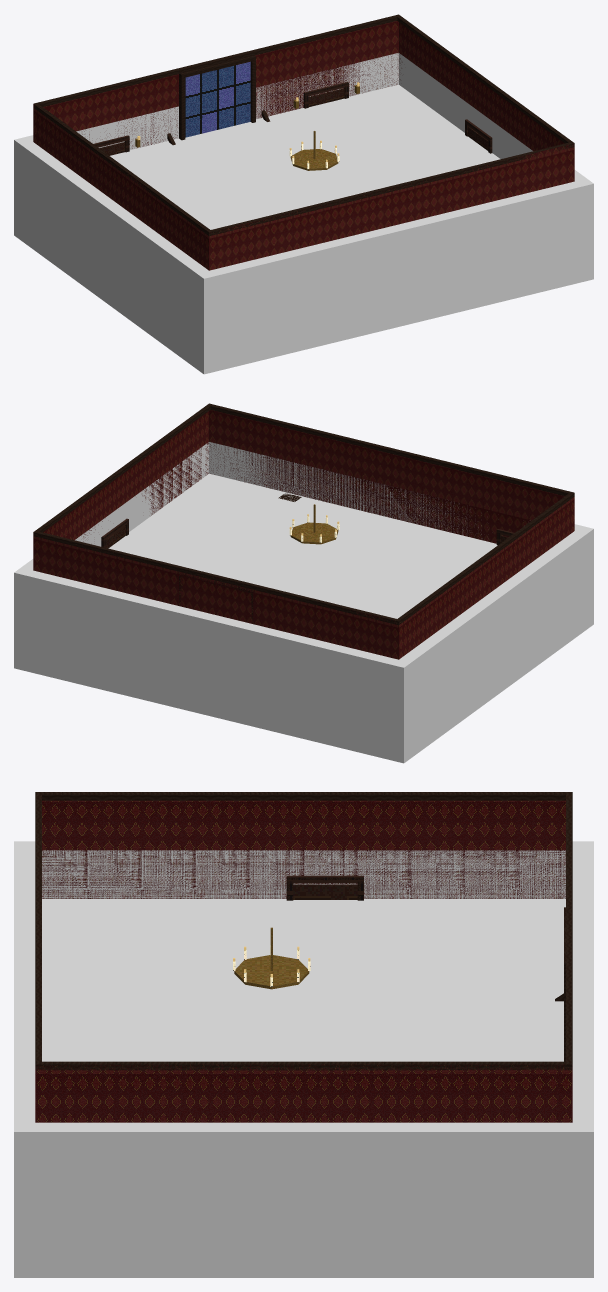
Rendered from hall.glb.
3 renders of one model, top to bottom at view 1: azimuth 30°, elevation 25°; view 2: azimuth 150°, elevation 25°; view 3: azimuth 270°, elevation 25°, orthographic. The views are drawn at different scales.
Visible parts, largest first — view 1: COL_Wall_S, Room_Shell, COL_Wall_W, TRG_CAM_4, TRG_CAM_3, COL_Wall_N, Window_N, COL_Wall_E, COL_Stairs, Molding_N, Molding_S, Molding_W (+3 smaller); view 2: Room_Shell, COL_Wall_N, COL_Wall_W, TRG_CAM_2, TRG_CAM_1, COL_Wall_S, TRG_CAM_4, COL_Wall_E, TRG_CAM_3, Molding_N, Molding_S, Molding_W (+2 smaller); view 3: COL_Wall_E, Room_Shell, TRG_CAM_3, TRG_CAM_1, COL_Wall_W, COL_Wall_N, COL_Wall_S, COL_Stairs, TRG_CAM_2, TRG_CAM_4, Molding_E, Molding_W (+5 smaller).
Part boxes in pixels (x1,y1,x2,y2): COL_Wall_S: [197, 178, 593, 374]; Room_Shell: [33, 21, 574, 270]; COL_Wall_W: [21, 142, 208, 368]; TRG_CAM_4: [213, 84, 496, 202]; TRG_CAM_3: [110, 128, 320, 227]; COL_Wall_N: [14, 53, 398, 240]; Window_N: [185, 61, 250, 137]; COL_Wall_E: [399, 53, 586, 181]; COL_Stairs: [167, 118, 306, 167]; Molding_N: [33, 14, 400, 108]; Molding_S: [207, 141, 574, 236]; Molding_W: [35, 104, 209, 234]; Room_Shell: [33, 410, 574, 659]; COL_Wall_N: [14, 567, 410, 763]; COL_Wall_W: [399, 531, 586, 757]; TRG_CAM_2: [132, 473, 392, 569]; TRG_CAM_1: [316, 517, 497, 600]; COL_Wall_S: [209, 442, 593, 629]; TRG_CAM_4: [108, 530, 326, 593]; COL_Wall_E: [21, 442, 208, 570]; TRG_CAM_3: [284, 568, 421, 618]; Molding_N: [33, 530, 400, 625]; Molding_S: [207, 403, 574, 497]; Molding_W: [398, 493, 572, 623]; COL_Wall_E: [35, 1122, 572, 1277]; Room_Shell: [35, 800, 572, 1122]; TRG_CAM_3: [250, 899, 565, 1030]; TRG_CAM_1: [42, 899, 271, 1030]; COL_Wall_W: [42, 850, 565, 898]; COL_Wall_N: [572, 841, 593, 1277]; COL_Wall_S: [14, 841, 35, 1277]; COL_Stairs: [449, 998, 563, 1061]; TRG_CAM_2: [42, 1030, 271, 1061]; TRG_CAM_4: [250, 1030, 448, 1061]; Molding_E: [42, 1061, 565, 1070]; Molding_W: [42, 792, 565, 800].
Bounding box in the file's own units: 12.8 × 4.21 × 10.8.
Materials: 22 (22 with a texture image).
